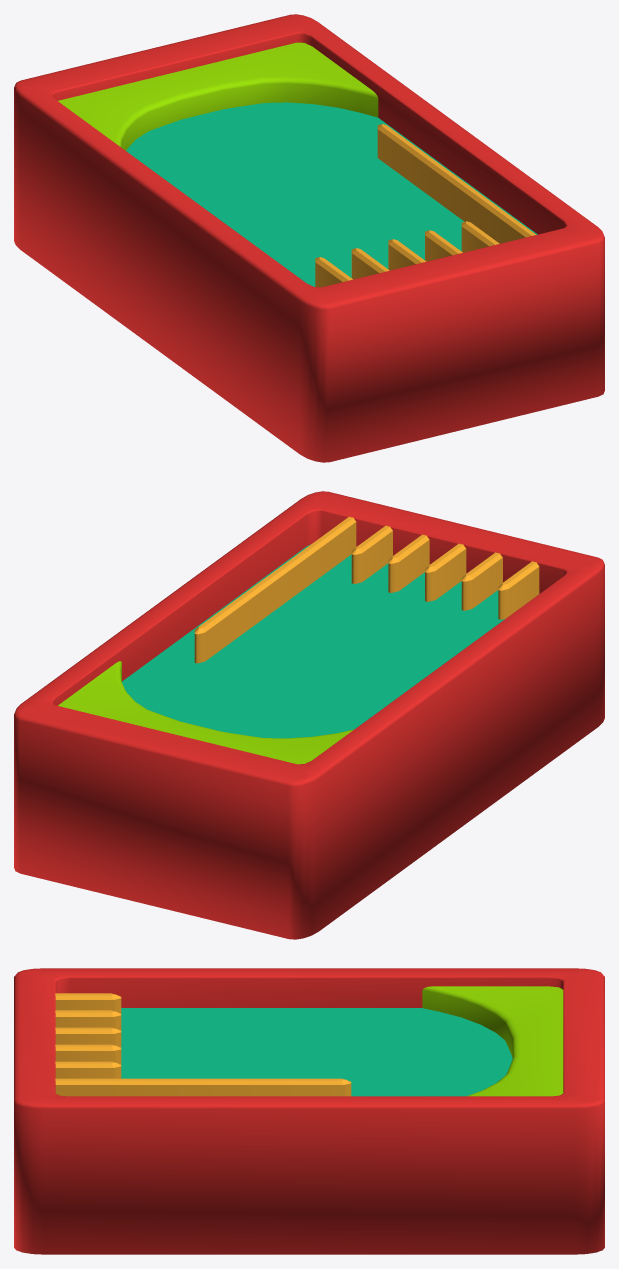
The model's file is pinballTest.gltf.
3 renders of one model, top to bottom at view 1: azimuth 30°, elevation 25°; view 2: azimuth 150°, elevation 25°; view 3: azimuth 270°, elevation 25°, orthographic. The views are drawn at different scales.
Visible parts, largest first — view 1: root0_base, root1, root3, root2; view 2: root0_base, root1, root2, root3; view 3: root0_base, root1, root2, root3.
Boxes of the visible parts, box(x1,y1,x2,y2) form: root0_base: box(14, 14, 604, 462); root1: box(126, 102, 537, 286); root3: box(58, 42, 378, 150); root2: box(315, 124, 535, 287); root0_base: box(14, 491, 604, 939); root1: box(122, 544, 504, 738); root2: box(194, 516, 539, 663); root3: box(58, 661, 353, 764); root0_base: box(14, 968, 604, 1254); root1: box(121, 1008, 512, 1096); root2: box(55, 993, 351, 1096); root3: box(422, 986, 563, 1096).
Bounding box in the file's own units: 2 × 1 × 3.6.
